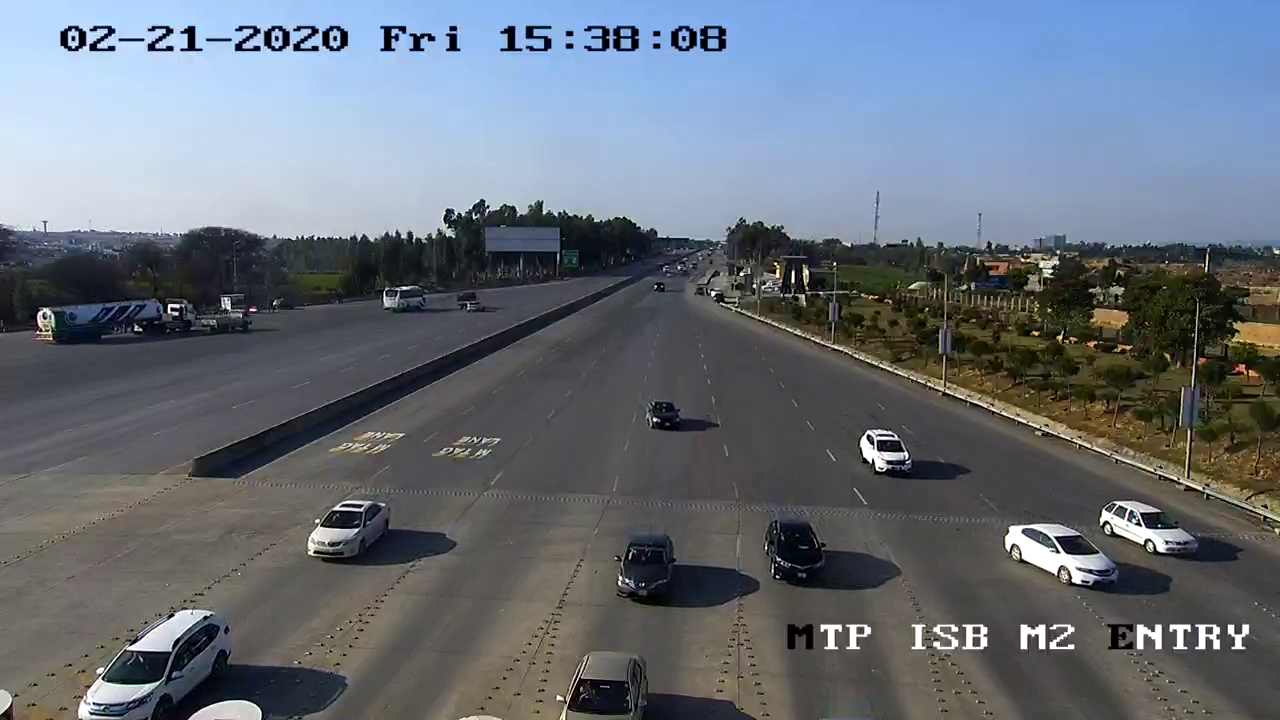f1: (60, 601, 236, 720), (992, 508, 1123, 598), (292, 486, 400, 569), (1097, 478, 1200, 563), (751, 503, 835, 600), (600, 528, 686, 611), (846, 415, 922, 484), (631, 394, 688, 437)
